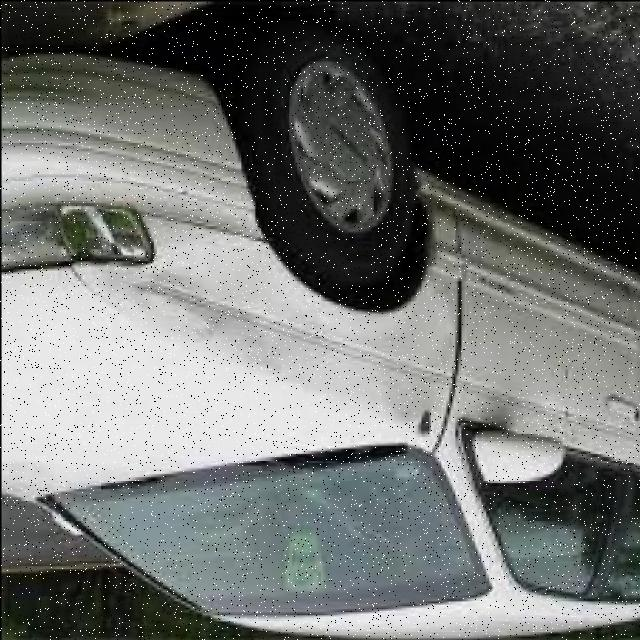damage: (132, 258, 467, 434)
